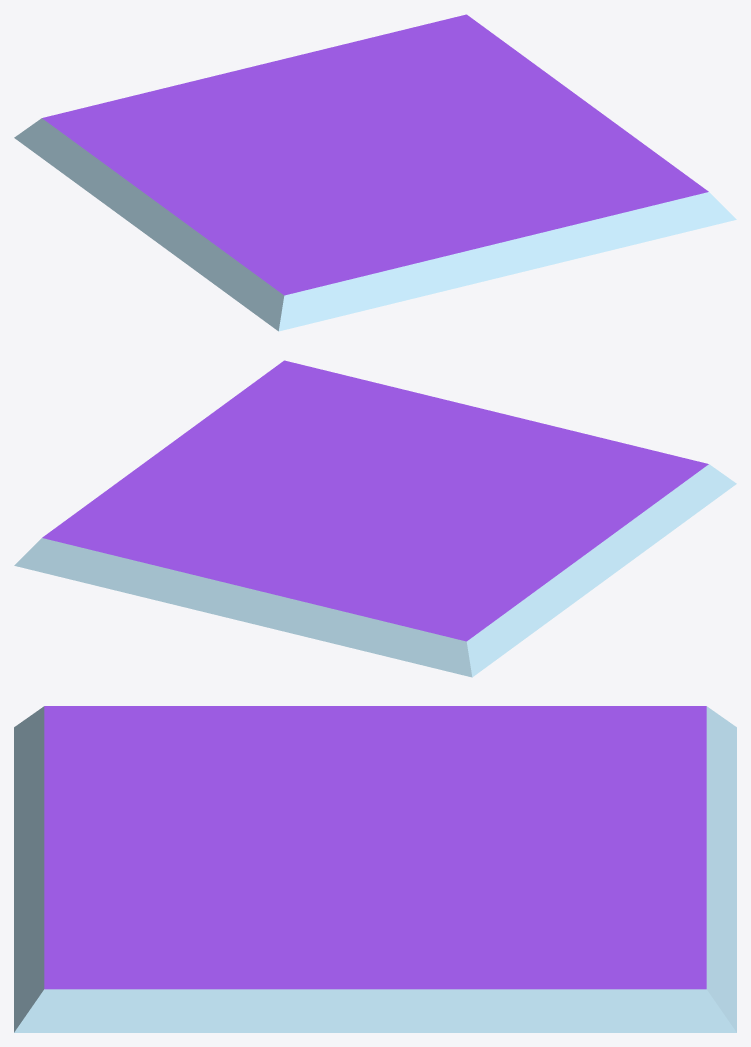
3 renders of one model, top to bottom at view 1: azimuth 30°, elevation 25°; view 2: azimuth 150°, elevation 25°; view 3: azimuth 270°, elevation 25°, orthographic. The views are drawn at different scales.
Parts seen in each view (by area): view 1: Base; view 2: Base; view 3: Base.
Boxes of the visible parts, left/top/right/bottom form: Base: left=14, top=14, right=736, bottom=331; Base: left=14, top=360, right=736, bottom=677; Base: left=14, top=706, right=736, bottom=1032.
Bounding box in the file's own units: 200 × 9.91 × 200.
